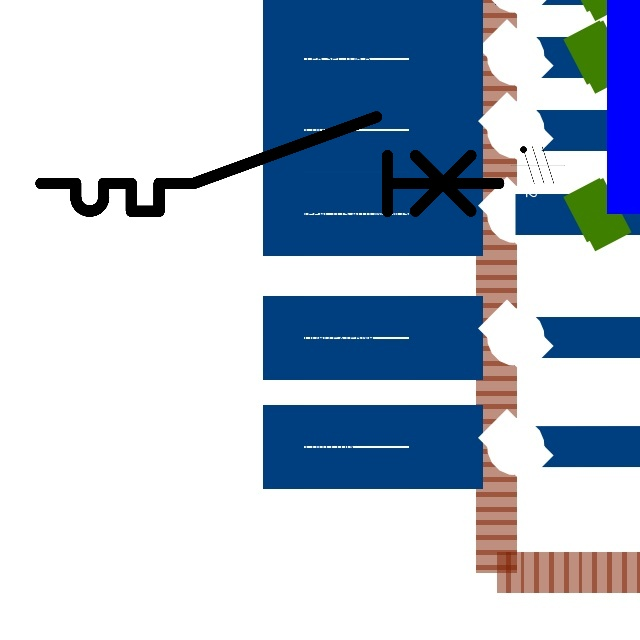interruptor_termomagnetico: (29, 105, 510, 223)
